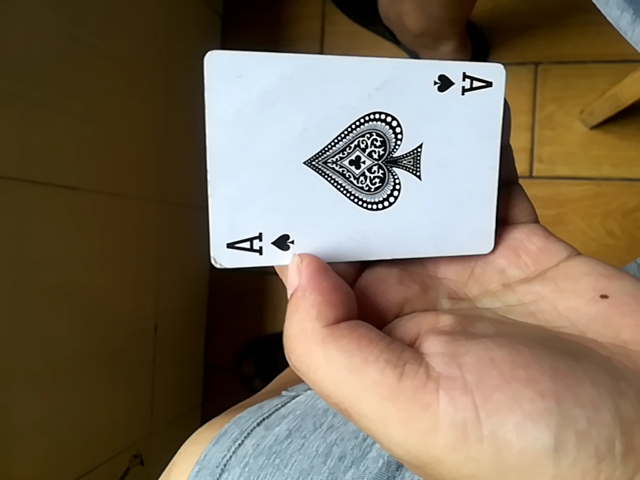ht a: (196, 50, 505, 273)
